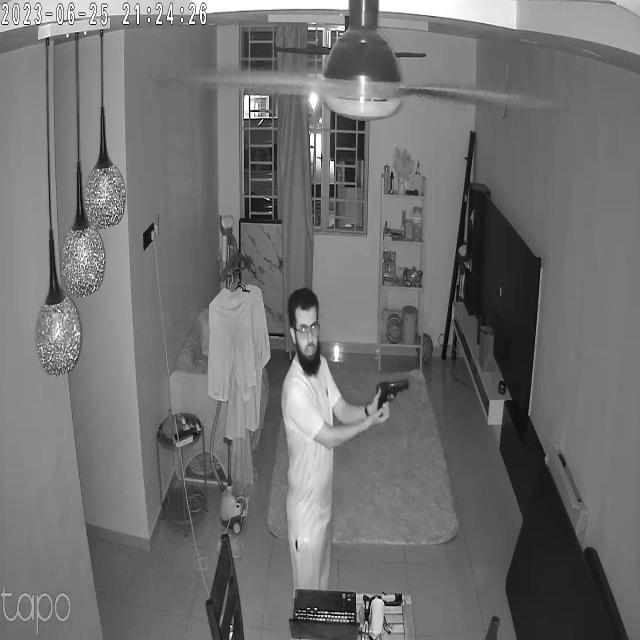Gun: (370, 368, 417, 417)
